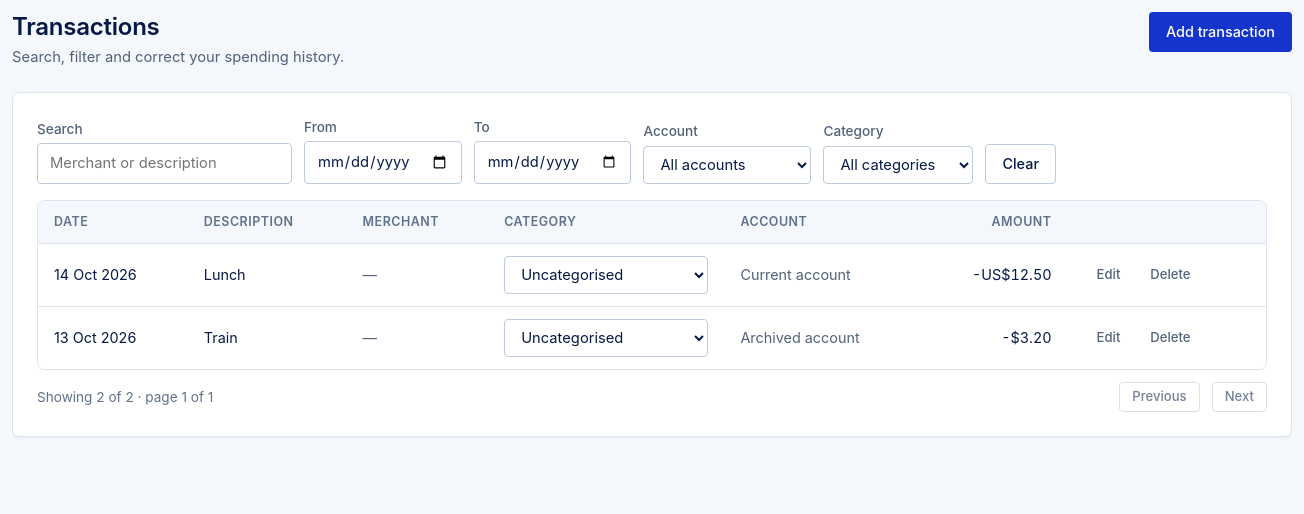
Test: transaction controls › shows a failed deletion while retaining the transaction
Click the button with aria-label "Delete Lunch".
click(1170, 275)  # box [1137, 260, 1204, 290]
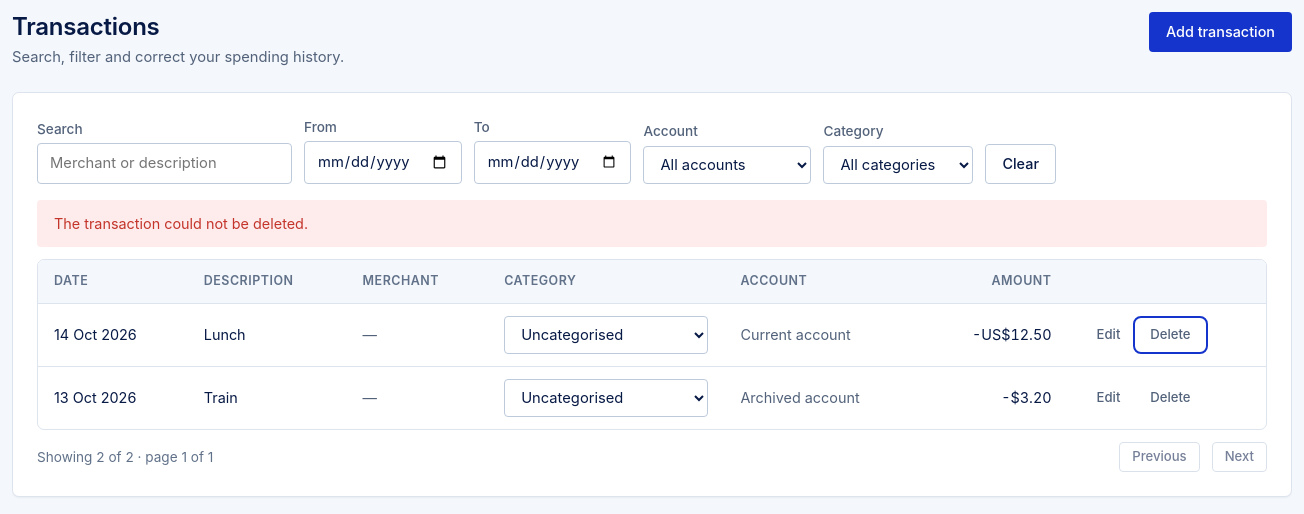
Check: the button with aria-label "Edit Lunch" is shown, box [1084, 320, 1133, 350]
Check: the message reads "The transaction could not be deleted.", box [54, 214, 308, 232]
